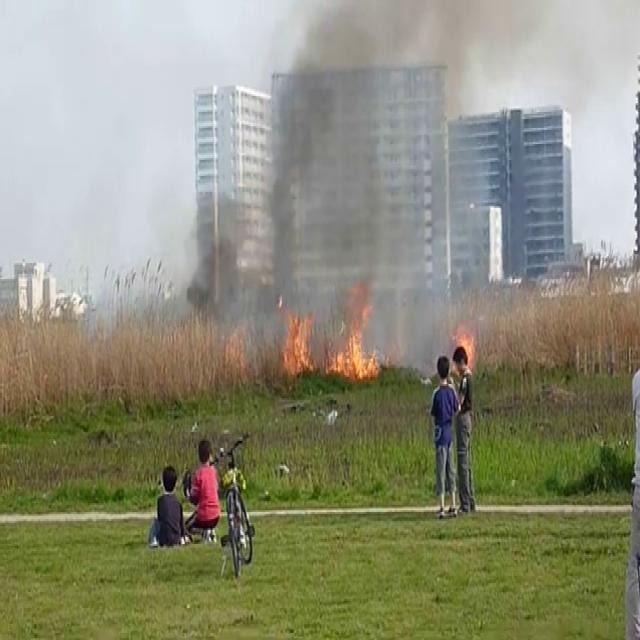Fire: (331, 302, 383, 386), (277, 294, 318, 385)
Smoke: (252, 0, 499, 348)
